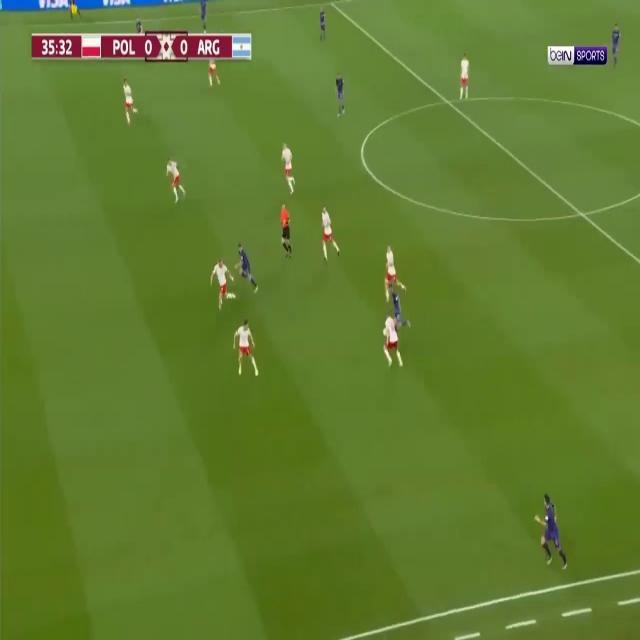Ball: (383, 325, 388, 338)
Referee: (280, 201, 294, 259), (68, 2, 83, 25)
TEAM 1: (534, 491, 570, 572), (235, 240, 260, 293), (390, 287, 412, 332), (609, 22, 622, 68), (335, 70, 347, 118), (318, 6, 328, 44), (199, 0, 208, 36), (135, 15, 144, 35)
TEAM 2: (210, 254, 238, 310), (233, 319, 260, 377), (384, 243, 408, 301), (321, 204, 341, 263), (384, 311, 404, 368), (165, 156, 188, 204), (281, 142, 298, 196), (122, 76, 140, 126), (459, 50, 471, 100), (207, 60, 223, 90)
